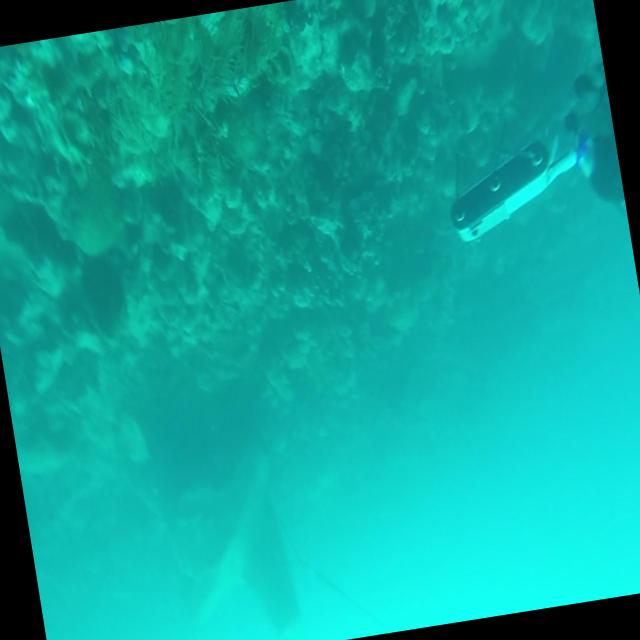human: (430, 58, 628, 248)
